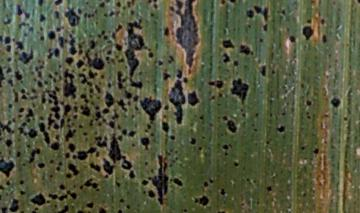tarspot: (173, 1, 200, 76), (123, 17, 151, 89), (167, 79, 187, 126), (151, 154, 169, 206), (108, 132, 132, 170), (39, 89, 60, 120), (138, 95, 162, 122), (229, 77, 248, 105), (62, 68, 76, 100), (78, 177, 100, 194), (64, 6, 81, 28), (221, 114, 237, 137), (101, 157, 116, 180), (17, 45, 34, 65), (1, 157, 16, 178), (37, 122, 50, 146), (252, 5, 269, 22), (29, 192, 46, 207), (91, 53, 104, 72), (193, 194, 210, 208), (115, 71, 127, 90), (238, 43, 254, 57), (186, 90, 199, 107), (67, 32, 76, 56), (66, 162, 80, 177), (93, 134, 108, 148), (1, 118, 12, 137), (301, 25, 314, 41), (220, 38, 235, 51), (27, 148, 40, 163), (139, 136, 151, 152), (8, 197, 20, 213), (115, 97, 127, 113), (83, 48, 92, 69), (329, 96, 342, 110), (64, 128, 77, 142), (104, 90, 114, 108), (221, 142, 232, 158), (160, 120, 170, 136), (78, 104, 90, 117), (87, 161, 99, 173), (76, 149, 88, 161), (172, 176, 183, 189), (65, 189, 78, 200), (45, 112, 53, 129), (11, 87, 19, 104), (45, 46, 54, 61), (274, 124, 286, 135), (49, 141, 61, 152), (23, 107, 34, 119), (74, 59, 85, 71), (87, 69, 98, 81), (221, 51, 231, 64), (76, 71, 86, 84), (74, 43, 84, 56), (56, 204, 70, 213), (46, 191, 57, 202), (46, 30, 57, 41), (13, 69, 23, 81), (82, 11, 95, 20), (1, 65, 6, 88), (57, 35, 64, 51), (66, 142, 76, 153), (122, 89, 132, 100), (107, 120, 117, 131), (114, 42, 124, 53), (78, 93, 88, 104), (14, 40, 23, 52), (62, 104, 71, 116), (28, 127, 36, 140), (15, 4, 23, 17), (161, 71, 171, 81), (37, 13, 47, 23), (188, 136, 197, 147), (84, 200, 95, 209), (64, 56, 73, 67), (215, 79, 223, 91), (260, 64, 267, 77), (87, 38, 94, 51), (311, 146, 320, 156), (245, 9, 254, 19), (57, 193, 67, 202), (4, 138, 14, 147), (86, 146, 96, 155), (93, 83, 102, 93), (113, 22, 122, 32), (1, 17, 12, 25), (262, 22, 269, 34), (32, 64, 44, 71), (206, 79, 215, 88), (36, 161, 45, 170), (16, 126, 25, 135), (29, 93, 38, 102), (17, 21, 26, 30), (147, 189, 155, 199), (128, 128, 136, 138), (162, 27, 170, 37), (4, 44, 12, 54), (93, 110, 101, 120), (100, 107, 110, 115), (30, 206, 41, 213), (175, 69, 182, 80), (53, 47, 60, 58), (35, 69, 42, 80), (110, 30, 117, 41), (288, 35, 296, 44), (202, 180, 210, 189), (97, 205, 106, 213), (139, 178, 148, 186), (128, 170, 136, 179), (120, 128, 128, 137), (52, 122, 60, 131), (23, 10, 31, 19), (35, 79, 43, 88), (26, 26, 34, 35), (265, 184, 272, 194), (218, 187, 225, 197), (57, 183, 67, 190), (125, 1, 132, 11), (321, 33, 327, 44), (104, 54, 110, 65), (304, 99, 312, 107), (18, 189, 26, 197), (62, 151, 70, 159), (181, 76, 189, 84), (15, 112, 23, 120), (147, 51, 155, 59), (54, 26, 62, 34), (4, 36, 12, 44), (20, 93, 28, 101), (97, 1, 105, 9), (238, 200, 246, 208), (17, 179, 26, 186), (15, 150, 22, 159), (166, 55, 173, 64), (7, 78, 14, 87), (71, 105, 78, 114), (53, 84, 60, 93), (88, 118, 94, 128), (299, 144, 307, 151), (232, 59, 239, 67), (300, 191, 308, 198), (4, 179, 12, 186), (65, 172, 72, 180), (77, 122, 84, 130), (36, 1, 44, 8), (52, 10, 59, 18), (5, 66, 12, 74), (5, 56, 13, 63), (38, 34, 45, 42), (46, 72, 53, 80), (21, 32, 29, 39), (37, 25, 44, 33), (83, 1, 91, 8), (117, 197, 126, 203), (125, 202, 131, 211), (114, 179, 120, 188), (106, 81, 112, 90), (56, 62, 62, 71), (115, 57, 124, 63), (108, 10, 114, 19), (53, 1, 63, 6), (305, 17, 312, 24), (279, 9, 286, 16), (305, 114, 312, 121), (232, 161, 239, 168), (208, 177, 215, 184), (264, 139, 271, 146), (208, 95, 215, 102), (240, 112, 247, 119), (169, 134, 176, 141), (48, 158, 55, 165), (116, 134, 123, 141), (145, 123, 152, 130), (163, 104, 170, 111), (81, 130, 88, 137), (54, 133, 61, 140), (148, 12, 155, 19), (152, 3, 159, 10), (29, 86, 36, 93), (101, 12, 108, 19), (270, 68, 276, 76), (320, 18, 326, 26), (94, 150, 100, 158), (71, 153, 77, 161), (157, 59, 163, 67), (7, 102, 13, 110), (17, 106, 25, 112), (43, 79, 49, 87), (104, 49, 112, 55), (76, 7, 82, 15), (100, 29, 106, 37), (115, 1, 121, 9), (215, 101, 223, 107), (255, 198, 261, 206), (149, 167, 154, 176), (1, 183, 6, 192), (51, 76, 56, 85), (115, 9, 120, 18), (353, 1, 360, 7), (257, 37, 263, 44), (252, 127, 258, 134), (280, 111, 287, 117), (217, 92, 224, 98), (196, 145, 203, 151), (238, 107, 244, 114), (181, 207, 188, 213), (115, 207, 122, 213), (142, 161, 149, 167), (1, 206, 7, 213), (54, 166, 60, 173), (57, 160, 63, 167), (133, 104, 139, 111), (72, 114, 79, 120), (57, 74, 63, 81), (129, 9, 135, 16), (102, 35, 109, 41), (322, 114, 330, 119), (162, 113, 167, 121), (169, 5, 174, 13), (11, 128, 16, 136), (116, 123, 121, 131), (19, 88, 27, 93), (172, 150, 180, 155), (342, 116, 348, 122), (249, 122, 255, 128), (254, 110, 258, 119), (75, 209, 84, 213), (20, 161, 26, 167), (22, 131, 28, 137), (10, 117, 16, 123), (65, 117, 71, 123), (96, 121, 102, 127), (101, 117, 107, 123), (95, 33, 101, 39), (130, 1, 136, 7), (207, 121, 213, 127), (299, 82, 304, 89), (199, 135, 206, 140), (252, 178, 257, 185), (45, 199, 50, 206), (24, 143, 31, 148), (26, 117, 31, 124), (93, 105, 100, 110), (47, 98, 52, 105), (173, 156, 180, 161), (215, 210, 226, 213), (246, 24, 252, 29), (198, 115, 204, 120), (47, 173, 53, 178), (149, 132, 155, 137), (20, 121, 26, 126), (99, 73, 104, 79), (220, 1, 227, 5), (268, 111, 272, 118), (131, 141, 135, 148), (64, 37, 68, 44), (228, 1, 237, 4), (245, 177, 250, 182), (121, 5, 126, 10), (18, 209, 24, 213), (1, 35, 4, 43), (53, 70, 57, 76), (142, 188, 146, 194), (168, 162, 172, 168), (304, 110, 309, 114), (1, 192, 3, 202), (143, 129, 148, 133), (164, 150, 168, 155), (147, 1, 152, 4), (104, 1, 109, 4), (152, 1, 157, 3)
